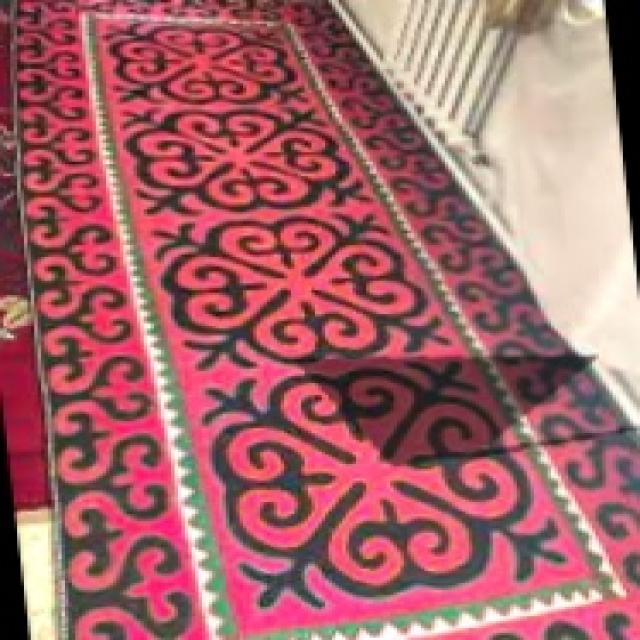Unity: (195, 357, 585, 622), (144, 209, 463, 381), (115, 107, 382, 224), (103, 24, 315, 115)
